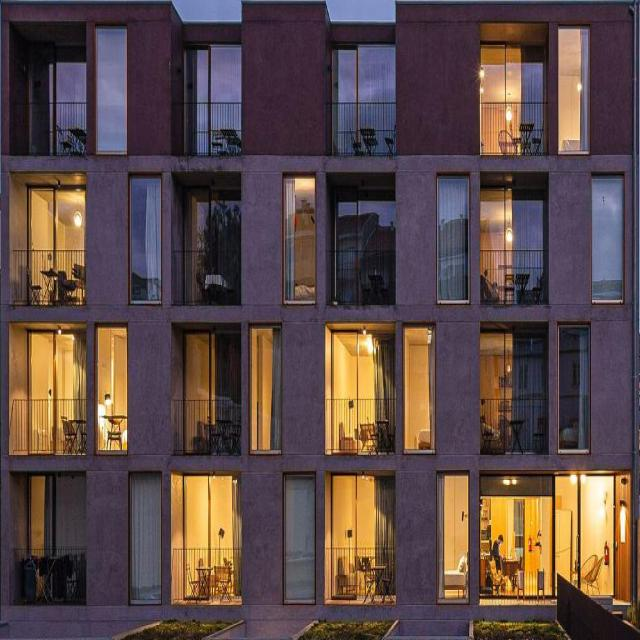railing: (13, 547, 86, 609), (327, 544, 397, 603), (14, 250, 86, 307), (172, 95, 241, 154), (13, 398, 86, 452), (172, 398, 242, 454), (481, 397, 549, 453), (175, 544, 242, 600), (327, 100, 397, 153), (10, 102, 86, 150), (175, 250, 242, 303), (327, 398, 394, 451), (335, 245, 396, 303), (479, 100, 547, 152), (481, 250, 547, 299)
window: (479, 479, 552, 598), (556, 474, 614, 589), (481, 325, 546, 396), (331, 474, 398, 542), (404, 319, 437, 457), (248, 329, 283, 450), (482, 182, 546, 248), (97, 321, 129, 453), (284, 469, 316, 600), (436, 176, 470, 299), (29, 470, 84, 546), (130, 470, 162, 600), (558, 324, 590, 453), (438, 471, 470, 599), (592, 174, 624, 301), (96, 24, 127, 154), (331, 332, 393, 397), (184, 476, 243, 544), (25, 330, 84, 398), (173, 39, 240, 97), (558, 30, 590, 150), (283, 175, 313, 301), (131, 173, 160, 302), (184, 329, 239, 397), (29, 185, 85, 251), (328, 46, 396, 100), (480, 47, 543, 100), (186, 191, 242, 248), (336, 194, 396, 246), (39, 55, 86, 101)
